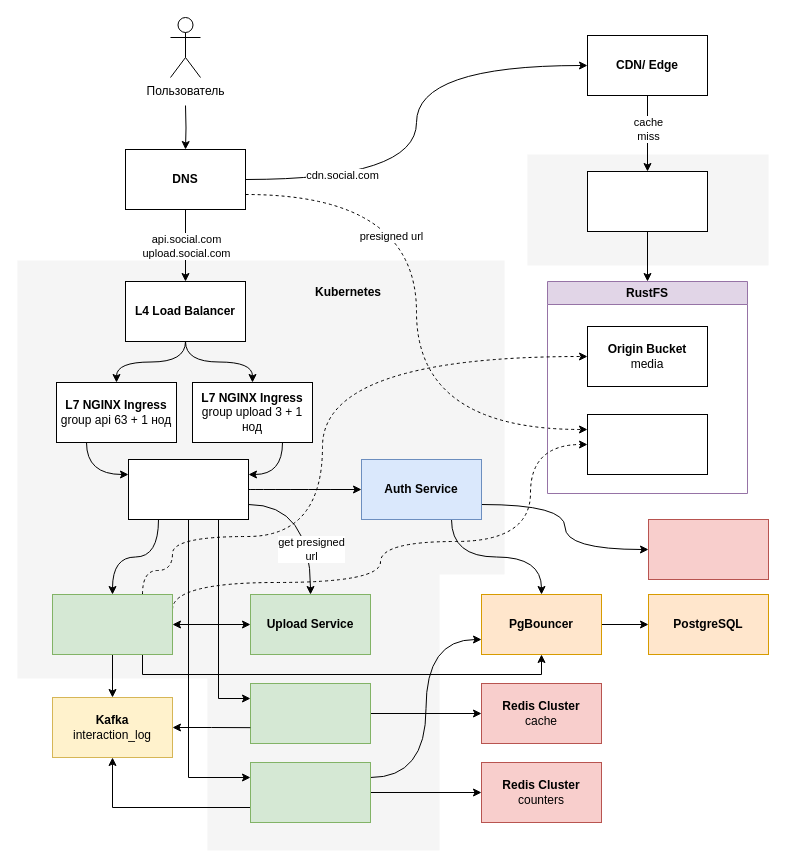
Image size: 786x868. Some labels were removed from this diagram. The shapes that lost their labels are listed below. From the top down, each one's box as (x1, y1, x2, y2) in pixels, then its label:
(586, 170, 708, 232): L7 NGINX Ingress group cdn 21 + 1 нод
(586, 414, 708, 474): Temp Bucket media
(128, 458, 248, 520): API Gateway 3 реплики
(648, 518, 768, 580): Redis Cluster session
(52, 594, 172, 654): Post Service Stories Service
(250, 682, 370, 744): Feed Service
(250, 762, 370, 822): Relation Service
